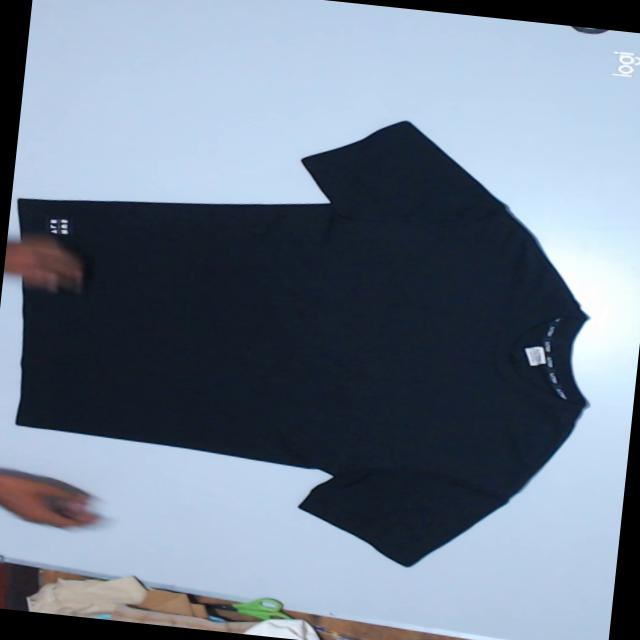new-garment: (16, 121, 586, 565)
